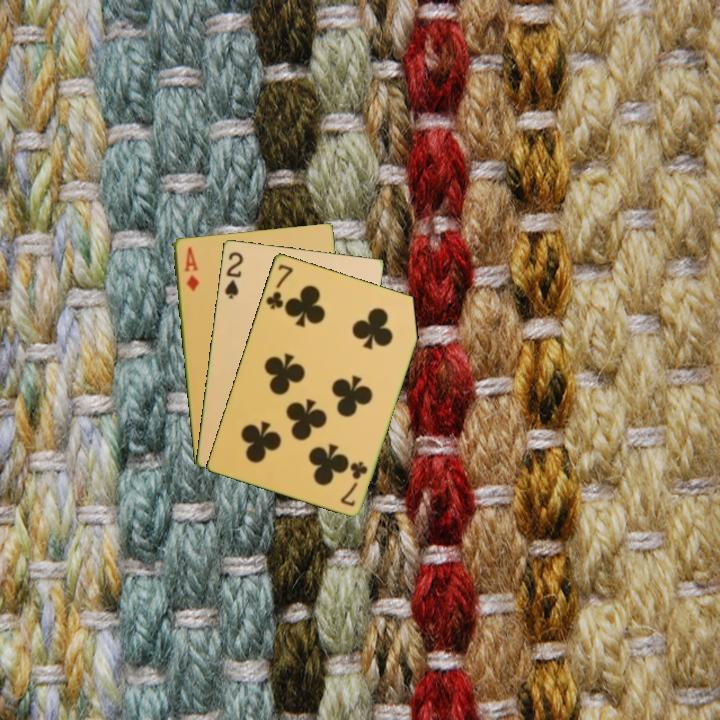2s: (221, 248, 246, 301)
7c: (262, 260, 296, 312), (337, 457, 370, 509)
Ad: (180, 243, 202, 294)
